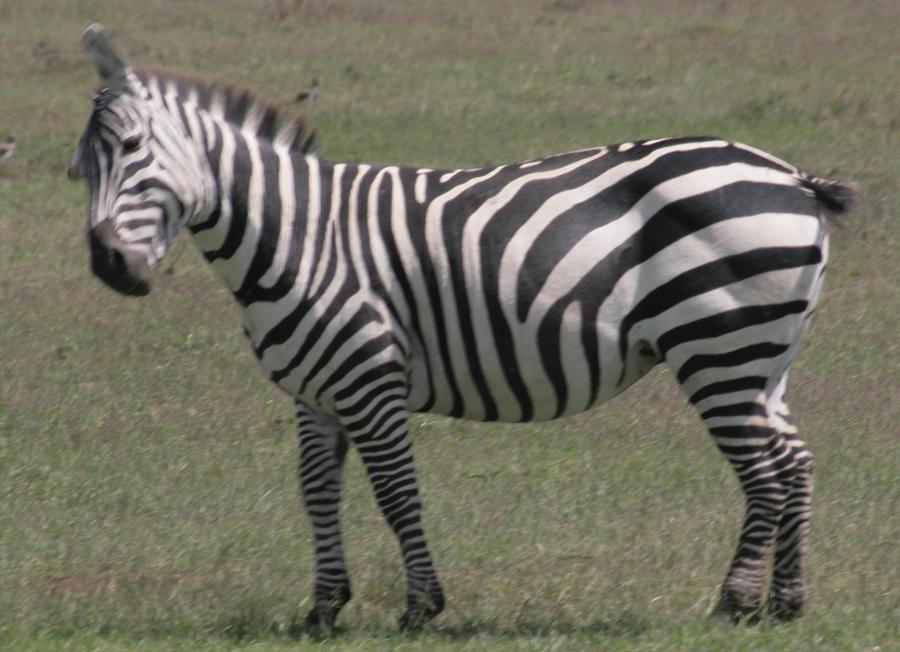zebra_plains: (251, 132, 802, 415)
